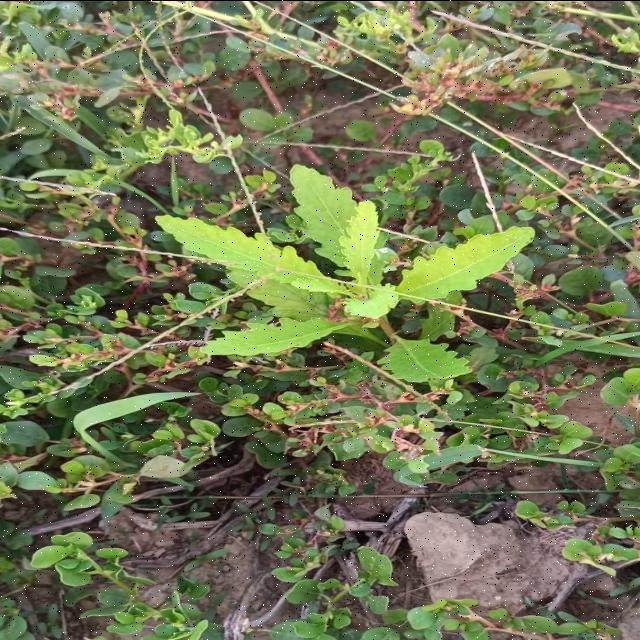weed: (156, 164, 535, 355), (374, 331, 470, 382)
